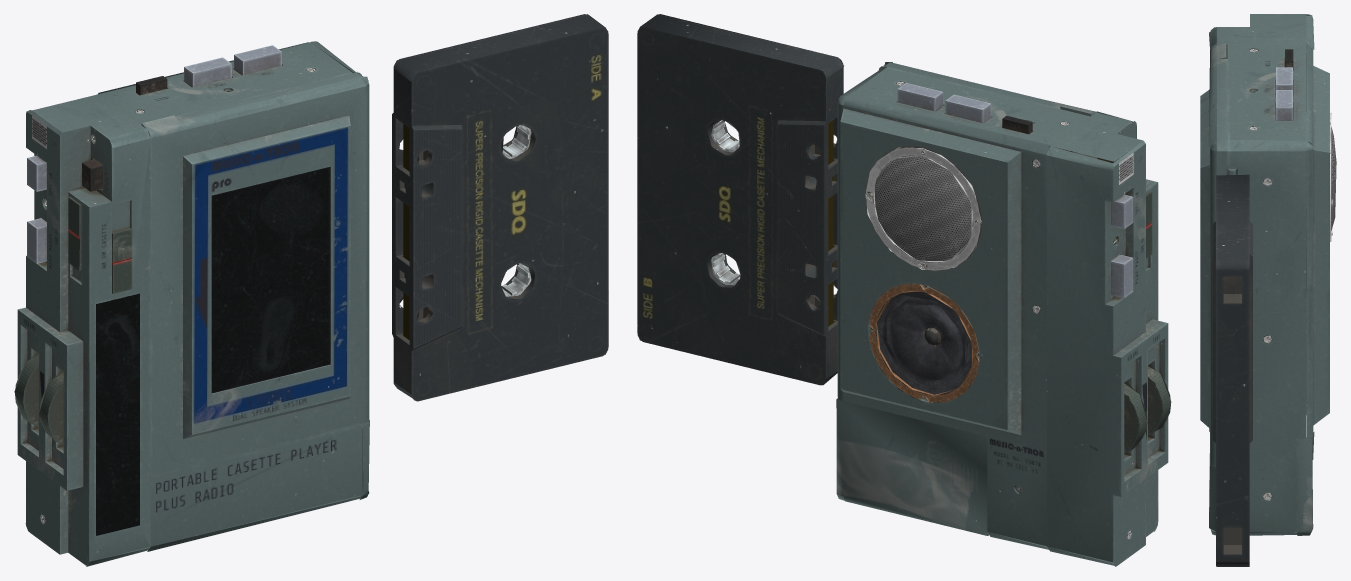
File: cassette_player.glb
The picture shows the model from 3 angles, left to right: view 1: azimuth 30°, elevation 25°; view 2: azimuth 150°, elevation 25°; view 3: azimuth 270°, elevation 25°; orthographic projection. The views are drawn at different scales.
Parts seen in each view (by area): view 1: cassette_player; view 2: cassette_player; view 3: cassette_player.
Part boxes in pixels (left/top/right/bottom): cassette_player: left=14, top=14, right=608, bottom=566; cassette_player: left=637, top=14, right=1171, bottom=566; cassette_player: left=1200, top=14, right=1336, bottom=566.
Bounding box in the file's own units: 0.1724 × 0.1307 × 0.0396.
2 materials, 2 textured.
